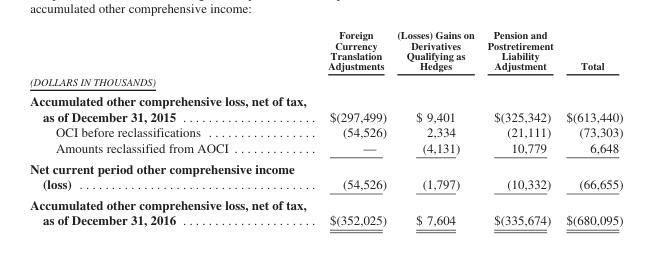table: (29, 28, 622, 227)
table column: (29, 28, 316, 227), (391, 28, 480, 227), (480, 28, 559, 227), (316, 28, 391, 227), (559, 28, 622, 227)
table column header: (29, 28, 622, 73)
table projected row header: (29, 73, 622, 90)
table row: (29, 28, 622, 73), (29, 157, 622, 193), (29, 90, 622, 124), (29, 193, 622, 227), (29, 139, 622, 157), (29, 73, 622, 90), (29, 124, 622, 139)
